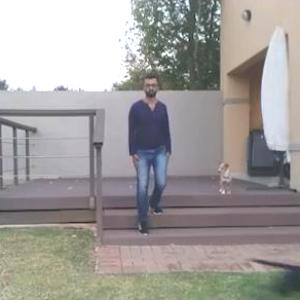follow: (126, 71, 167, 236)
